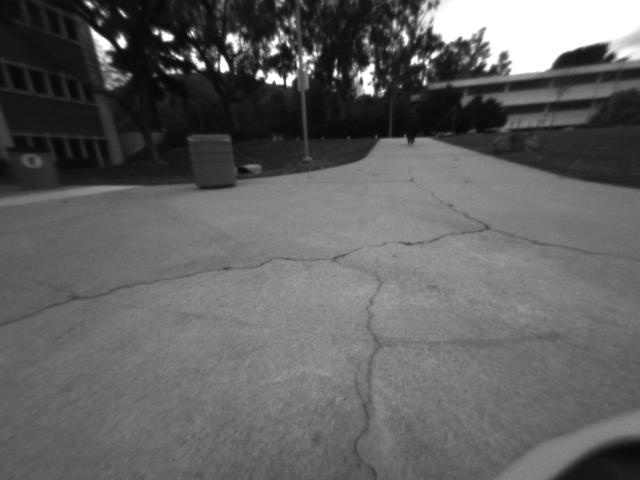trashcan: (181, 128, 239, 189), (3, 146, 68, 196)
